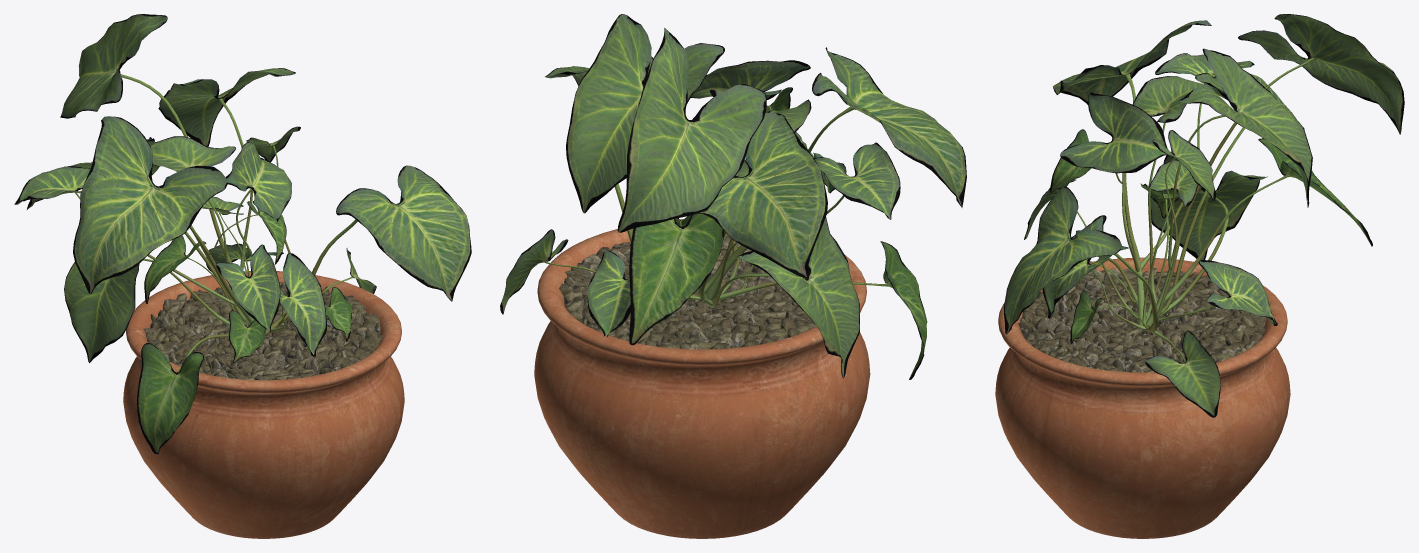
The model's file is potted_plant_02.gltf.
The picture shows the model from 3 angles, left to right: view 1: azimuth 30°, elevation 25°; view 2: azimuth 150°, elevation 25°; view 3: azimuth 270°, elevation 25°; orthographic projection. The views are drawn at different scales.
Visible parts, largest first — view 1: potted_plant_02_leaves, potted_plant_02_pot; view 2: potted_plant_02_leaves, potted_plant_02_pot; view 3: potted_plant_02_pot, potted_plant_02_leaves.
Boxes of the visible parts, <box> form: potted_plant_02_leaves: <box>14,14,471,454</box>; potted_plant_02_pot: <box>123,271,404,538</box>; potted_plant_02_leaves: <box>500,14,966,379</box>; potted_plant_02_pot: <box>534,219,870,538</box>; potted_plant_02_pot: <box>995,257,1290,538</box>; potted_plant_02_leaves: <box>1004,14,1404,417</box>.
Size of the model in its own units: 0.7012 by 0.8412 by 0.6574.
2 materials, 2 textured.
